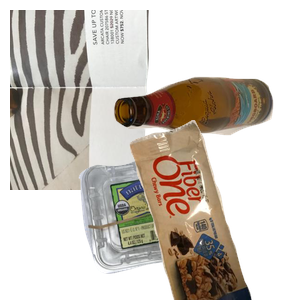glass: (111, 74, 300, 204)
paper: (10, 10, 250, 190)
plastic: (76, 151, 270, 300)
trash: (127, 120, 300, 300)
